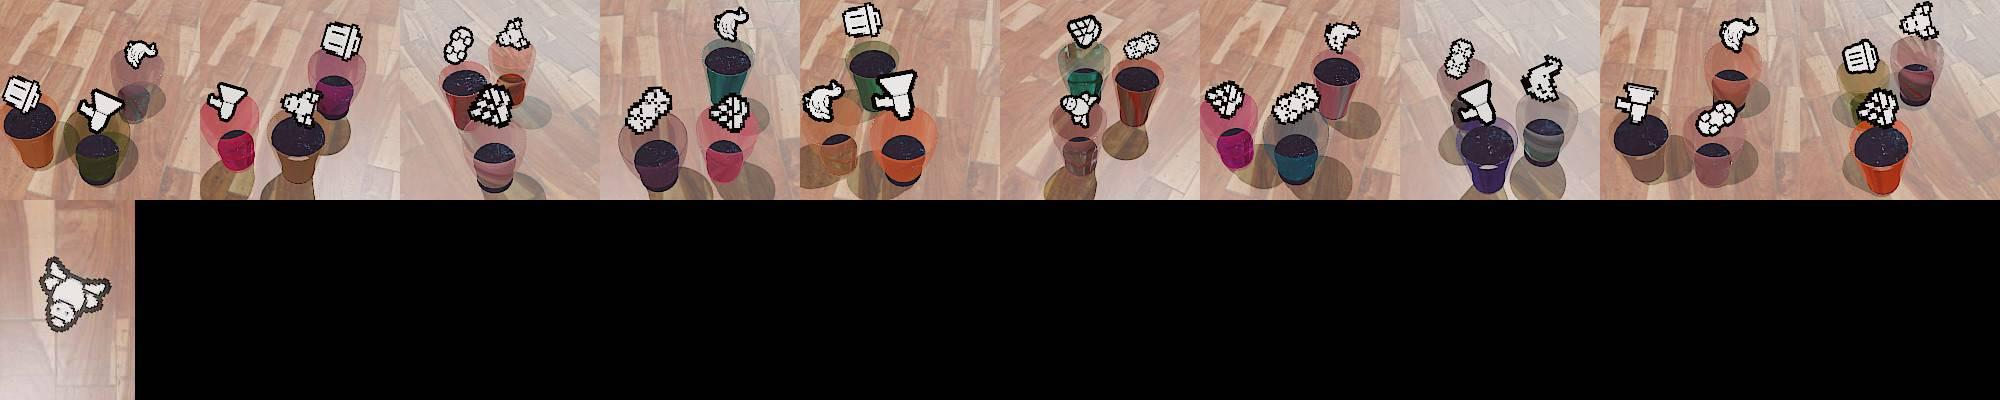icon: (37, 256, 110, 334), (624, 85, 673, 135), (870, 70, 918, 121), (466, 82, 515, 127), (1269, 80, 1320, 125), (78, 87, 125, 132), (1520, 54, 1564, 103), (1453, 78, 1496, 125), (801, 78, 846, 122), (1615, 80, 1659, 124), (707, 92, 751, 134), (320, 19, 364, 61), (207, 80, 249, 124), (1856, 88, 1901, 127), (1, 74, 42, 115), (279, 87, 321, 126), (1695, 97, 1737, 135), (1718, 17, 1759, 55), (1205, 79, 1244, 118), (1899, 1, 1937, 41), (842, 3, 883, 39), (1443, 37, 1476, 80), (1843, 38, 1880, 75), (1060, 92, 1098, 127), (1323, 19, 1361, 55), (1065, 15, 1102, 51), (713, 5, 750, 41), (494, 15, 531, 51), (443, 24, 474, 65), (122, 39, 158, 70), (1124, 32, 1161, 61)
